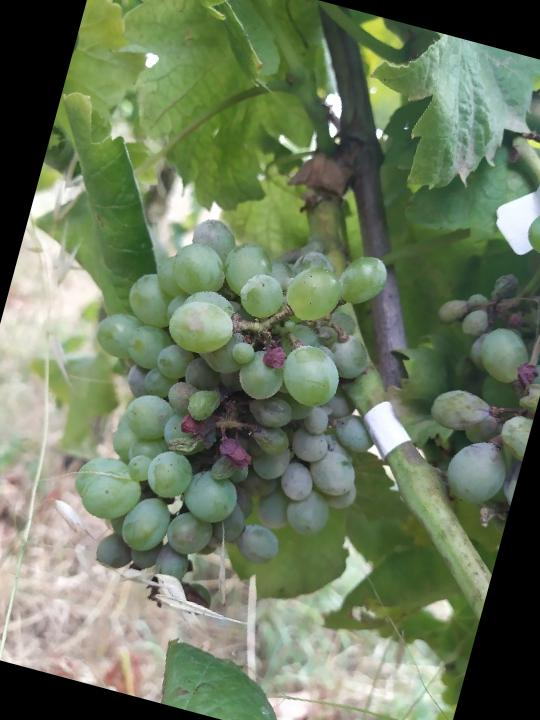grape: (32, 188, 422, 630)
